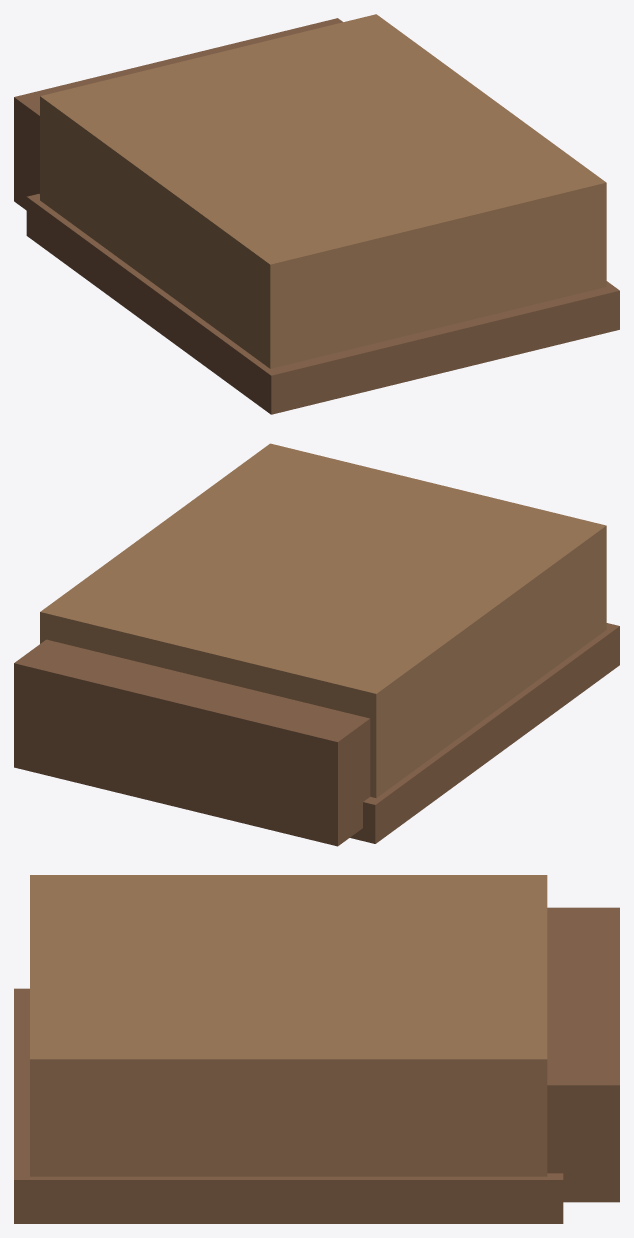
File: aventureiro_pe.glb
3 renders of one model, top to bottom at view 1: azimuth 30°, elevation 25°; view 2: azimuth 150°, elevation 25°; view 3: azimuth 270°, elevation 25°, orthographic. The views are drawn at different scales.
Parts seen in each view (by area): view 1: aventureiro_pe; view 2: aventureiro_pe; view 3: aventureiro_pe.
Part boxes in pixels (bbox=[...]): aventureiro_pe: bbox=[14, 14, 619, 414]; aventureiro_pe: bbox=[14, 443, 619, 846]; aventureiro_pe: bbox=[14, 875, 619, 1223].
Size of the model in its own units: 0.28 by 0.11 by 0.375.
